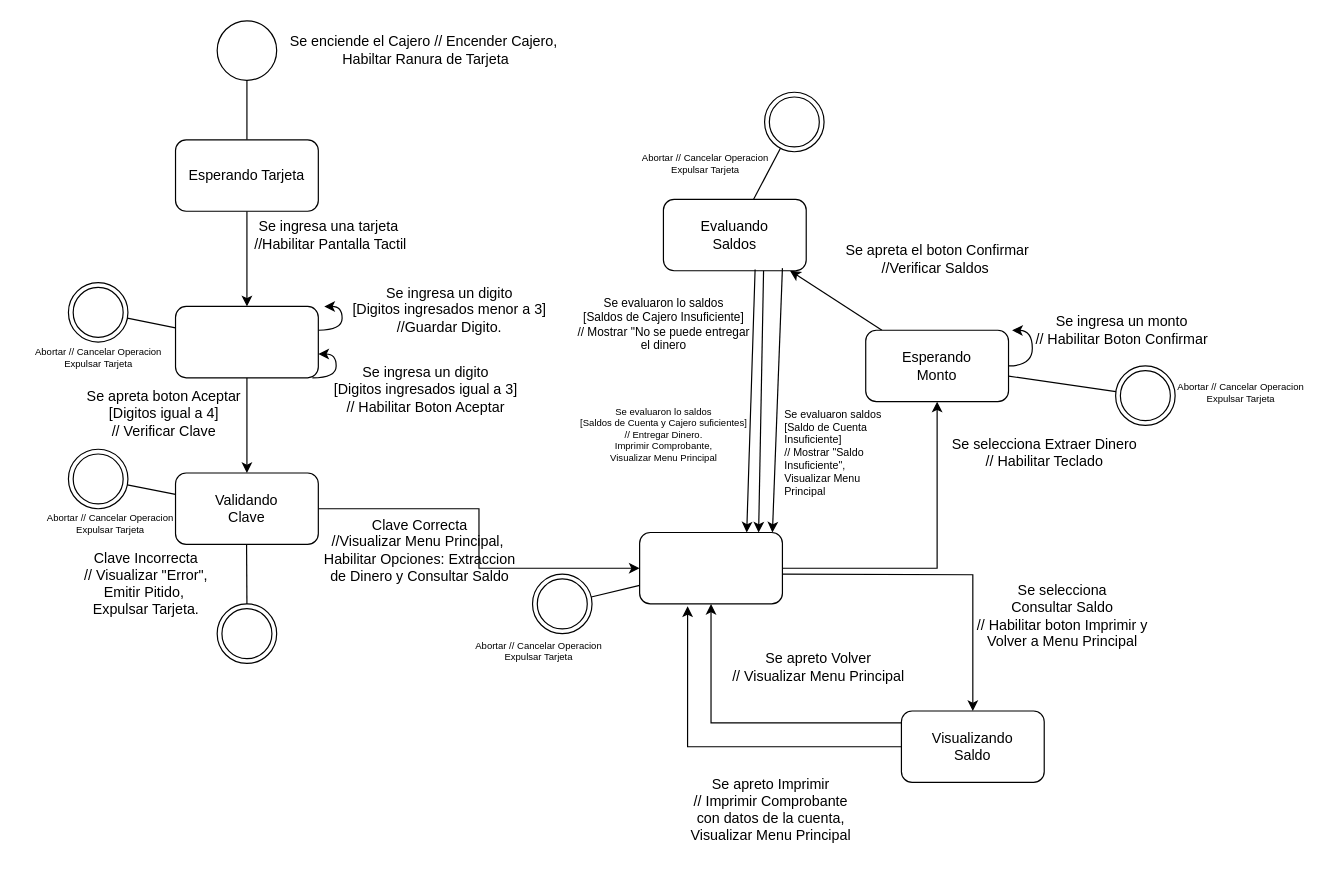
The diagram is 1338 pixels wide and 872 high, and some of its shapes have lost their labels. Each missing label, with the centre of its shape:
"Esperando Ingreso de Digitos" belongs at point (246, 341).
"Esperando Seleccion" belongs at point (710, 567).
